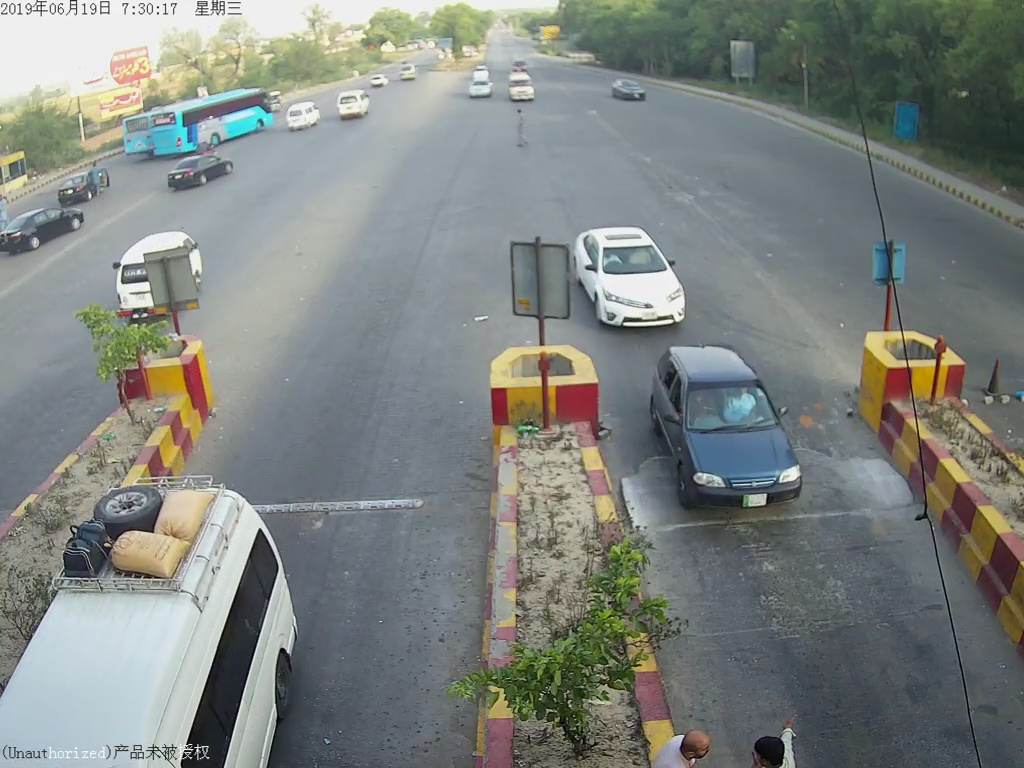Cat-1: (650, 347, 814, 505), (576, 231, 695, 334)
